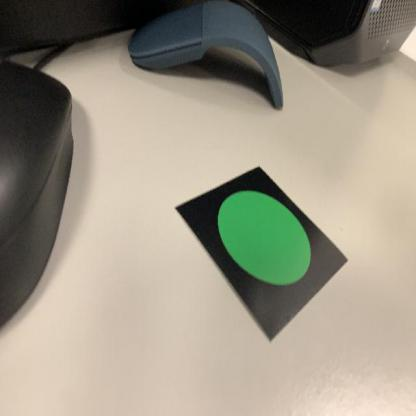go: (174, 162, 351, 346)
